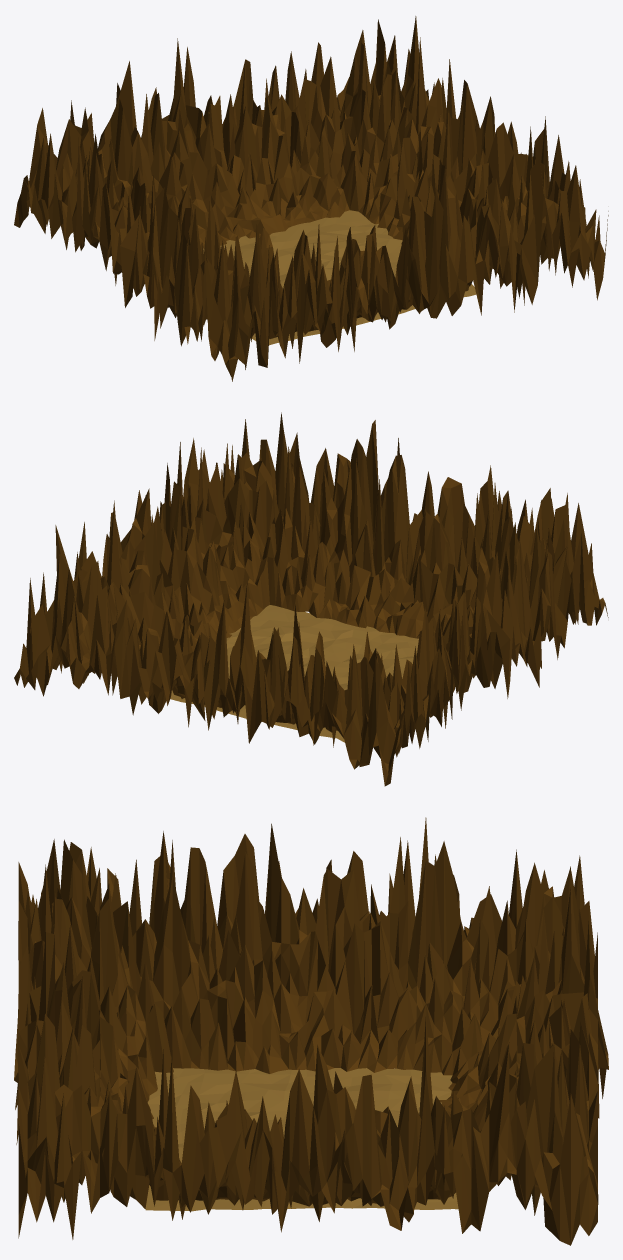
File: desa.fbx
3 views of the same model, one above another, from view 1: azimuth 30°, elevation 25°; view 2: azimuth 150°, elevation 25°; view 3: azimuth 270°, elevation 25° (orthographic). The views are drawn at different scales.
Visible parts, largest first — view 1: 平面.002, 平面; view 2: 平面.002, 平面; view 3: 平面.002, 平面.
Boxes of the visible parts, x1,y1,x2,y2 form: 平面.002: [14, 16, 608, 381]; 平面: [203, 210, 476, 345]; 平面.002: [14, 412, 608, 786]; 平面: [170, 605, 418, 742]; 平面.002: [14, 817, 608, 1245]; 平面: [145, 1068, 458, 1211].
Bounding box in the file's own units: 15485 × 6569 × 15406.
